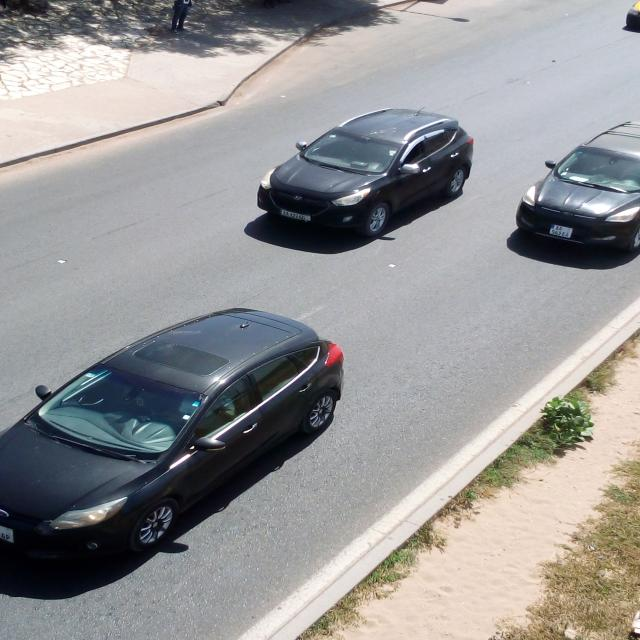particulier: (1, 310, 344, 559), (258, 109, 474, 237), (518, 122, 640, 252)
